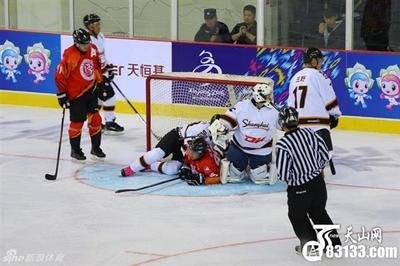falling: (215, 76, 282, 169)
